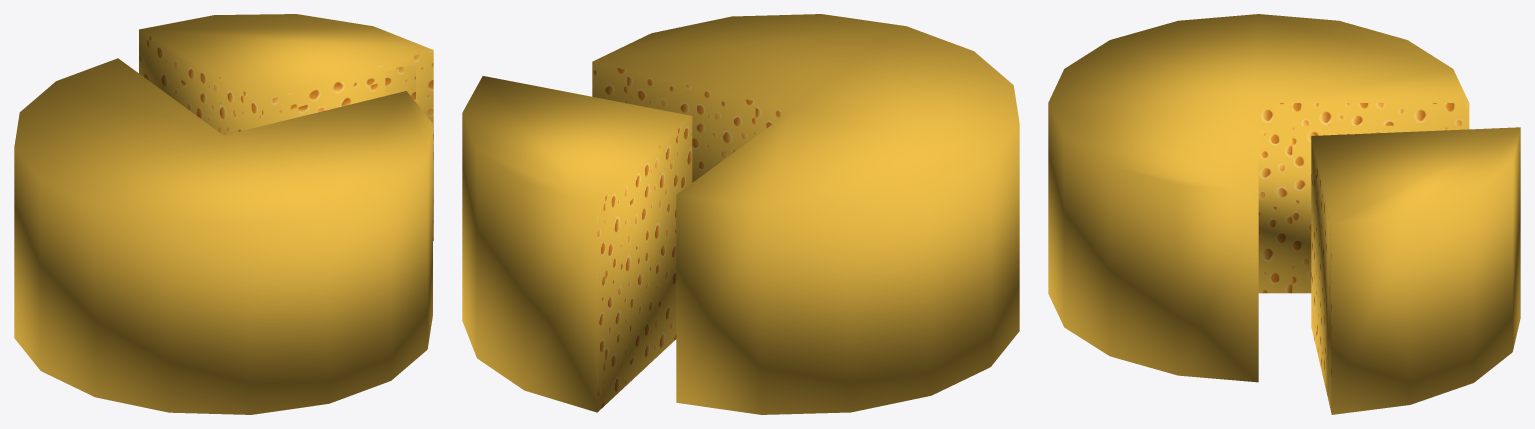
File: chesse2.fbx
The picture shows the model from 3 angles, left to right: view 1: azimuth 30°, elevation 25°; view 2: azimuth 150°, elevation 25°; view 3: azimuth 270°, elevation 25°; orthographic projection. The views are drawn at different scales.
Parts seen in each view (by area): view 1: Circle; view 2: Circle; view 3: Circle.
Part boxes in pixels (x1,y1,x2,y2): Circle: (14,14,433,414); Circle: (462,14,1019,414); Circle: (1048,14,1520,414).
Bounding box in the file's own units: 258 × 110 × 246.
